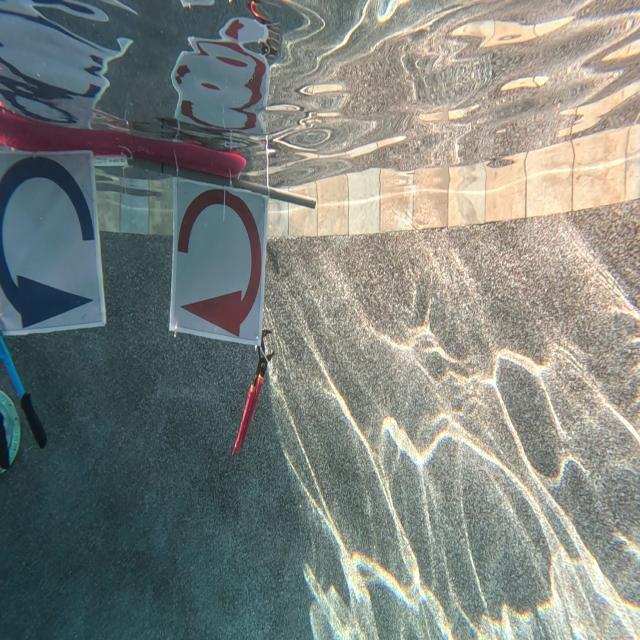blue_side: (0, 152, 97, 332)
red_side: (172, 175, 262, 344)
